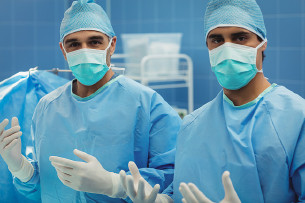face_mask: (208, 27, 257, 89), (64, 31, 108, 84)
